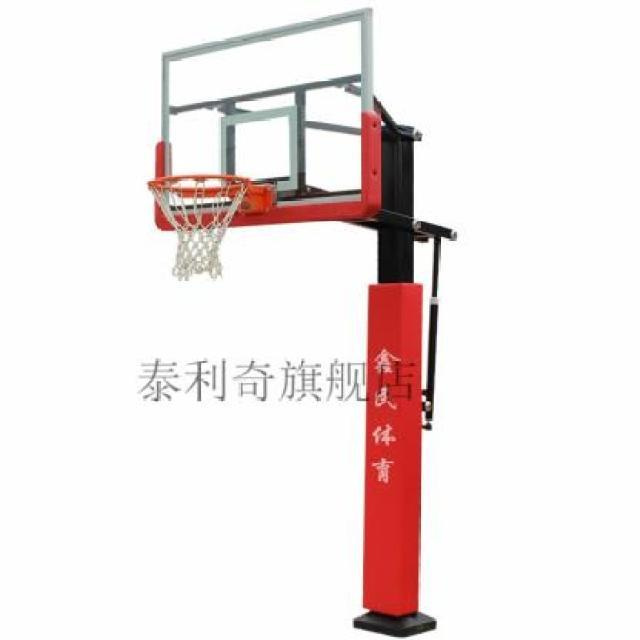rim: (148, 174, 248, 278)
